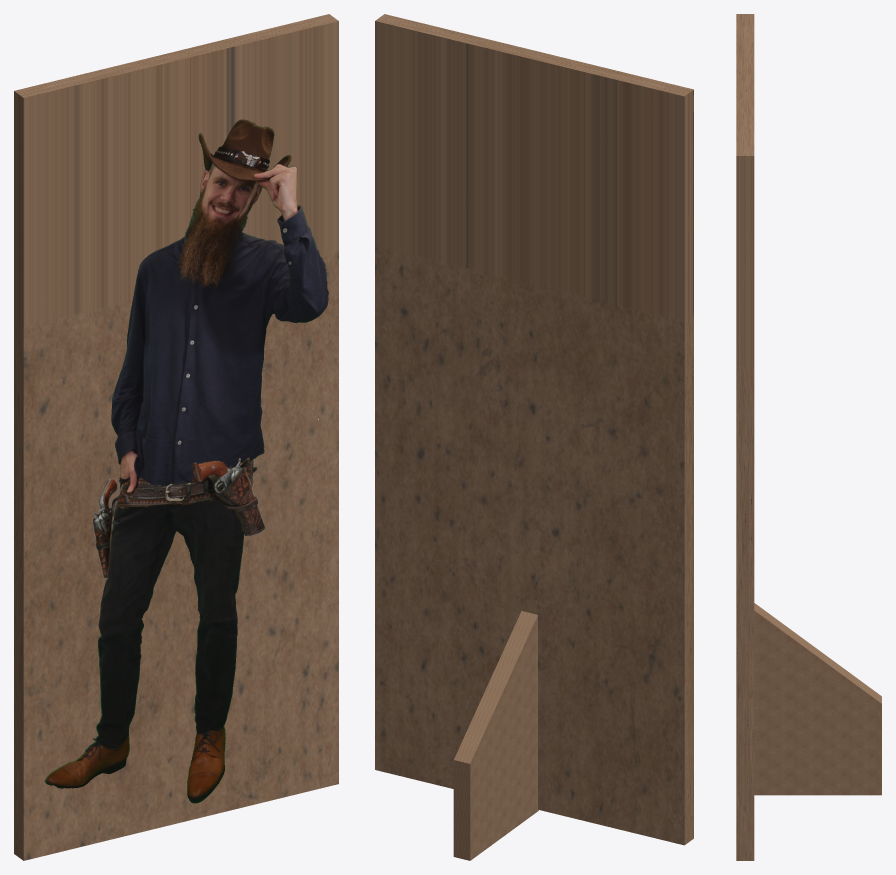
The model's file is 0-guide.fbx.
3 views of the same model, side by side, from view 1: azimuth 30°, elevation 25°; view 2: azimuth 150°, elevation 25°; view 3: azimuth 270°, elevation 25° (orthographic). The views are drawn at different scales.
Parts seen in each view (by area): view 1: Cube, 1-greet; view 2: Cube, Cube.001; view 3: Cube.001, Cube.
Part boxes in pixels (x1=…): Cube: x1=14, y1=14, x2=338, y2=860; 1-greet: x1=44, y1=119, x2=328, y2=803; Cube: x1=375, y1=14, x2=693, y2=845; Cube.001: x1=453, y1=611, x2=538, y2=860; Cube.001: x1=754, y1=603, x2=881, y2=795; Cube: x1=736, y1=14, x2=754, y2=860.
Bounding box in the file's own units: 584 × 1316 × 257.
